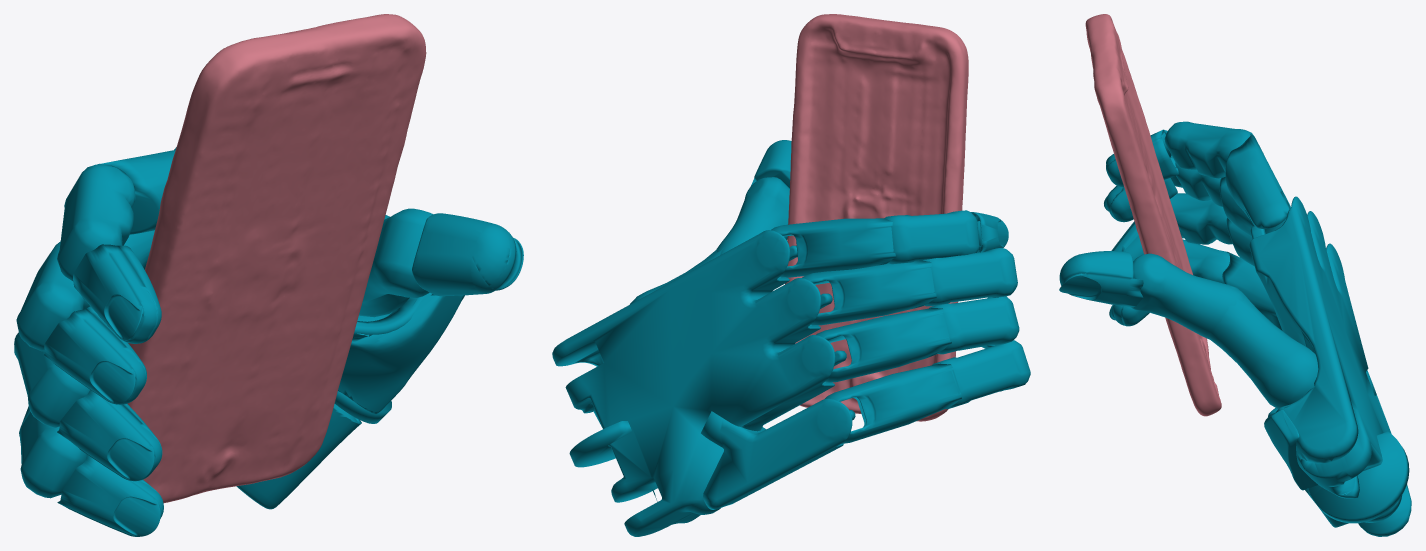
3 renders of one model, left to right at view 1: azimuth 30°, elevation 25°; view 2: azimuth 150°, elevation 25°; view 3: azimuth 270°, elevation 25°, orthographic. The views are drawn at different scales.
Visible parts, largest first — view 1: world; view 2: world; view 3: world.
Boxes of the visible parts, x1,y1,x2,y2 form: world: [14, 14, 523, 536]; world: [552, 14, 1030, 536]; world: [1059, 14, 1411, 536].
Bounding box in the file's own units: 0.1694 × 0.1847 × 0.1331.
